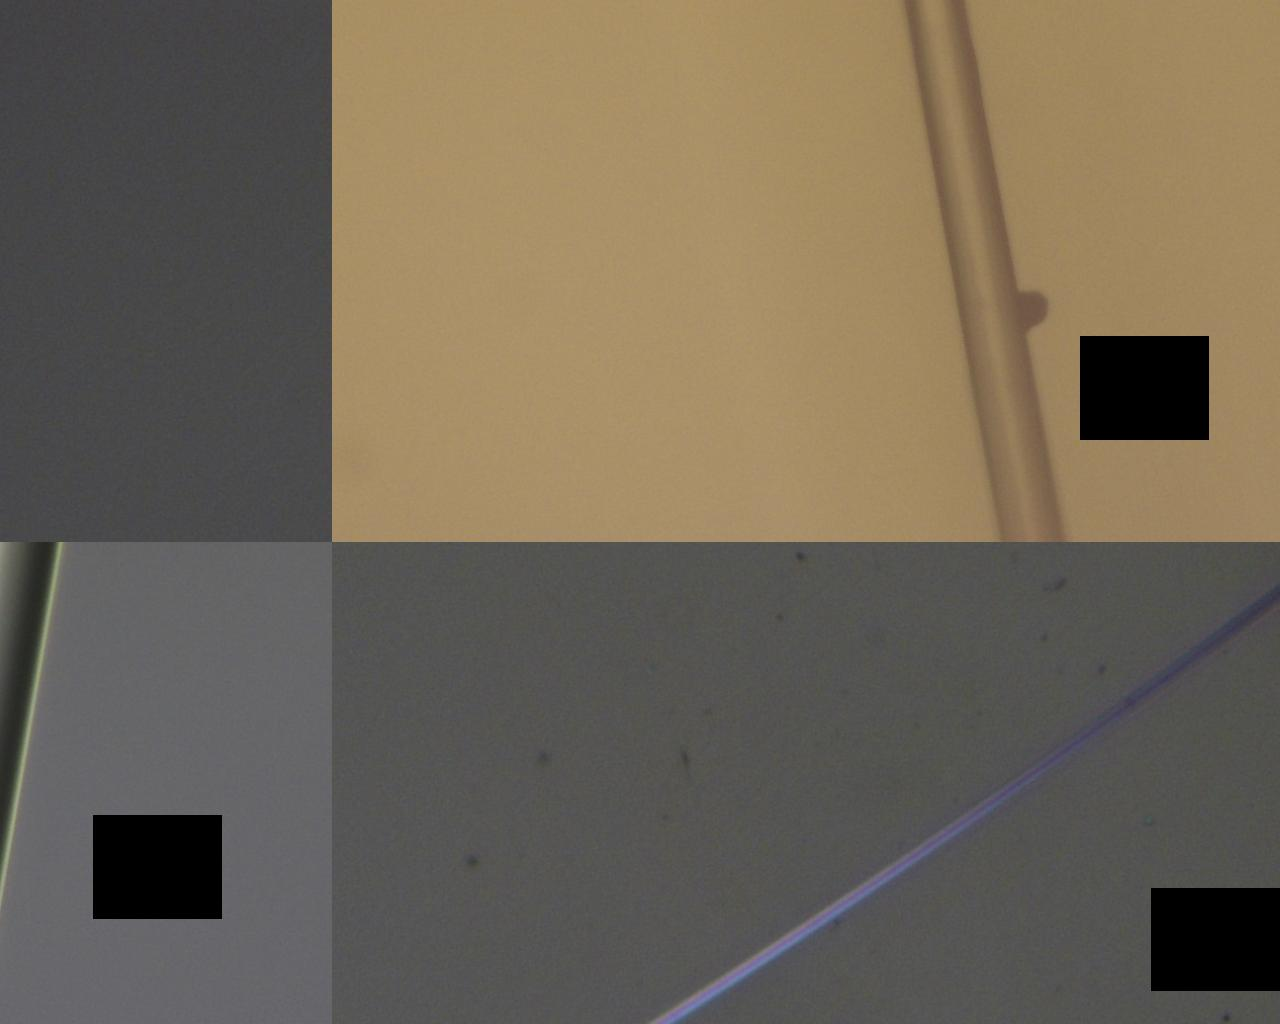fiber: (0, 70, 1280, 984)
